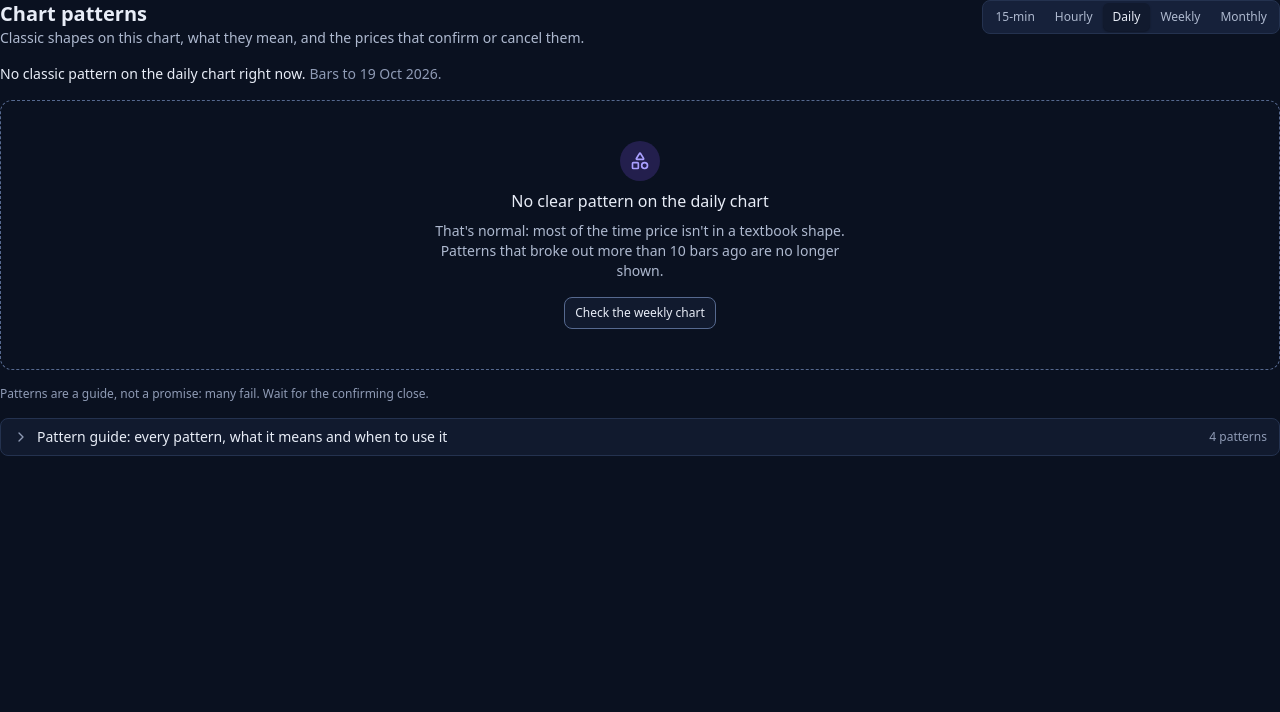
PatternsSection › shows an empty state that offers the weekly chart
Expected: the text "No clear pattern on the daily chart" is shown, [511,189,769,213]
Click the button "Check the weekly chart".
click(640, 313)  # box [564,297,716,329]
(page scrolled)
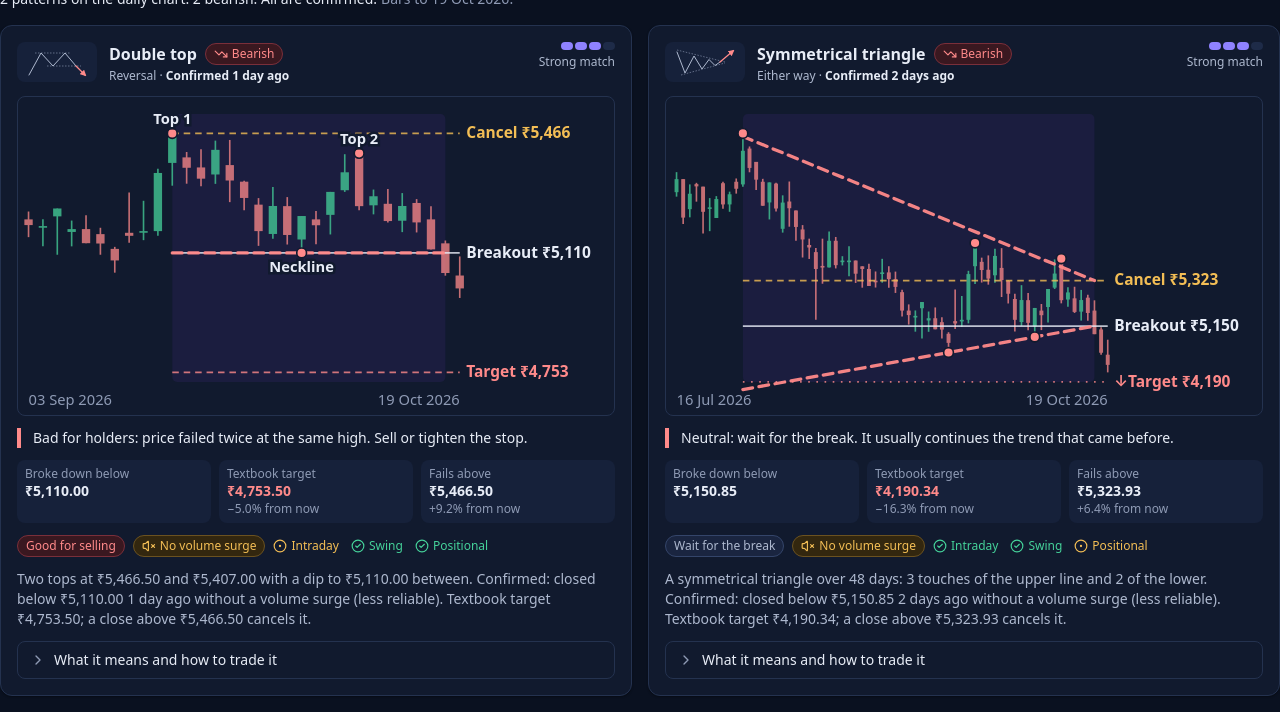
Result: the element "Double top" is shown at [0,25,632,696]
